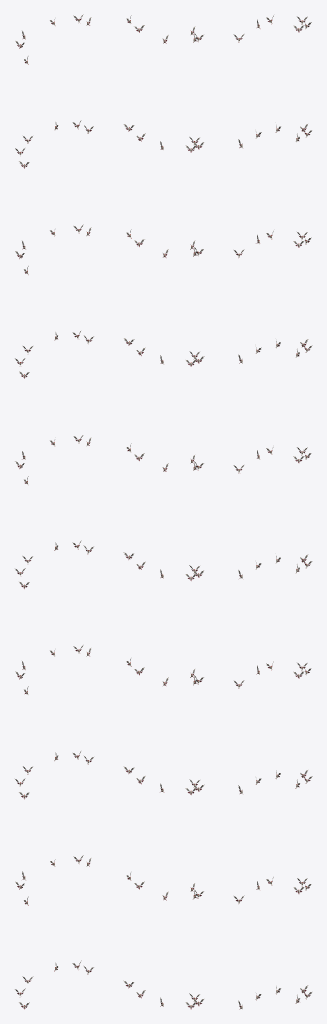
Rendered from Circle7Crowd4.obj.
3 renders of one model, left to right at view 1: azimuth 30°, elevation 25°; view 2: azimuth 210°, elevation 25°; view 3: azimuth 330°, elevation 25°, orthographic. The views are drawn at different scales.
Parts seen in each view (by area): view 1: Circle7Crowd4; view 2: Circle7Crowd4; view 3: Circle7Crowd4.
Part boxes in pixels (x1,y1,x2,y2): Circle7Crowd4: (15, 14, 93, 1009); Circle7Crowd4: (123, 15, 204, 1009); Circle7Crowd4: (233, 15, 312, 1009).
Bounding box in the file's own units: 31.11 × 419 × 18.87.
Materials: 1 (1 with a texture image).
